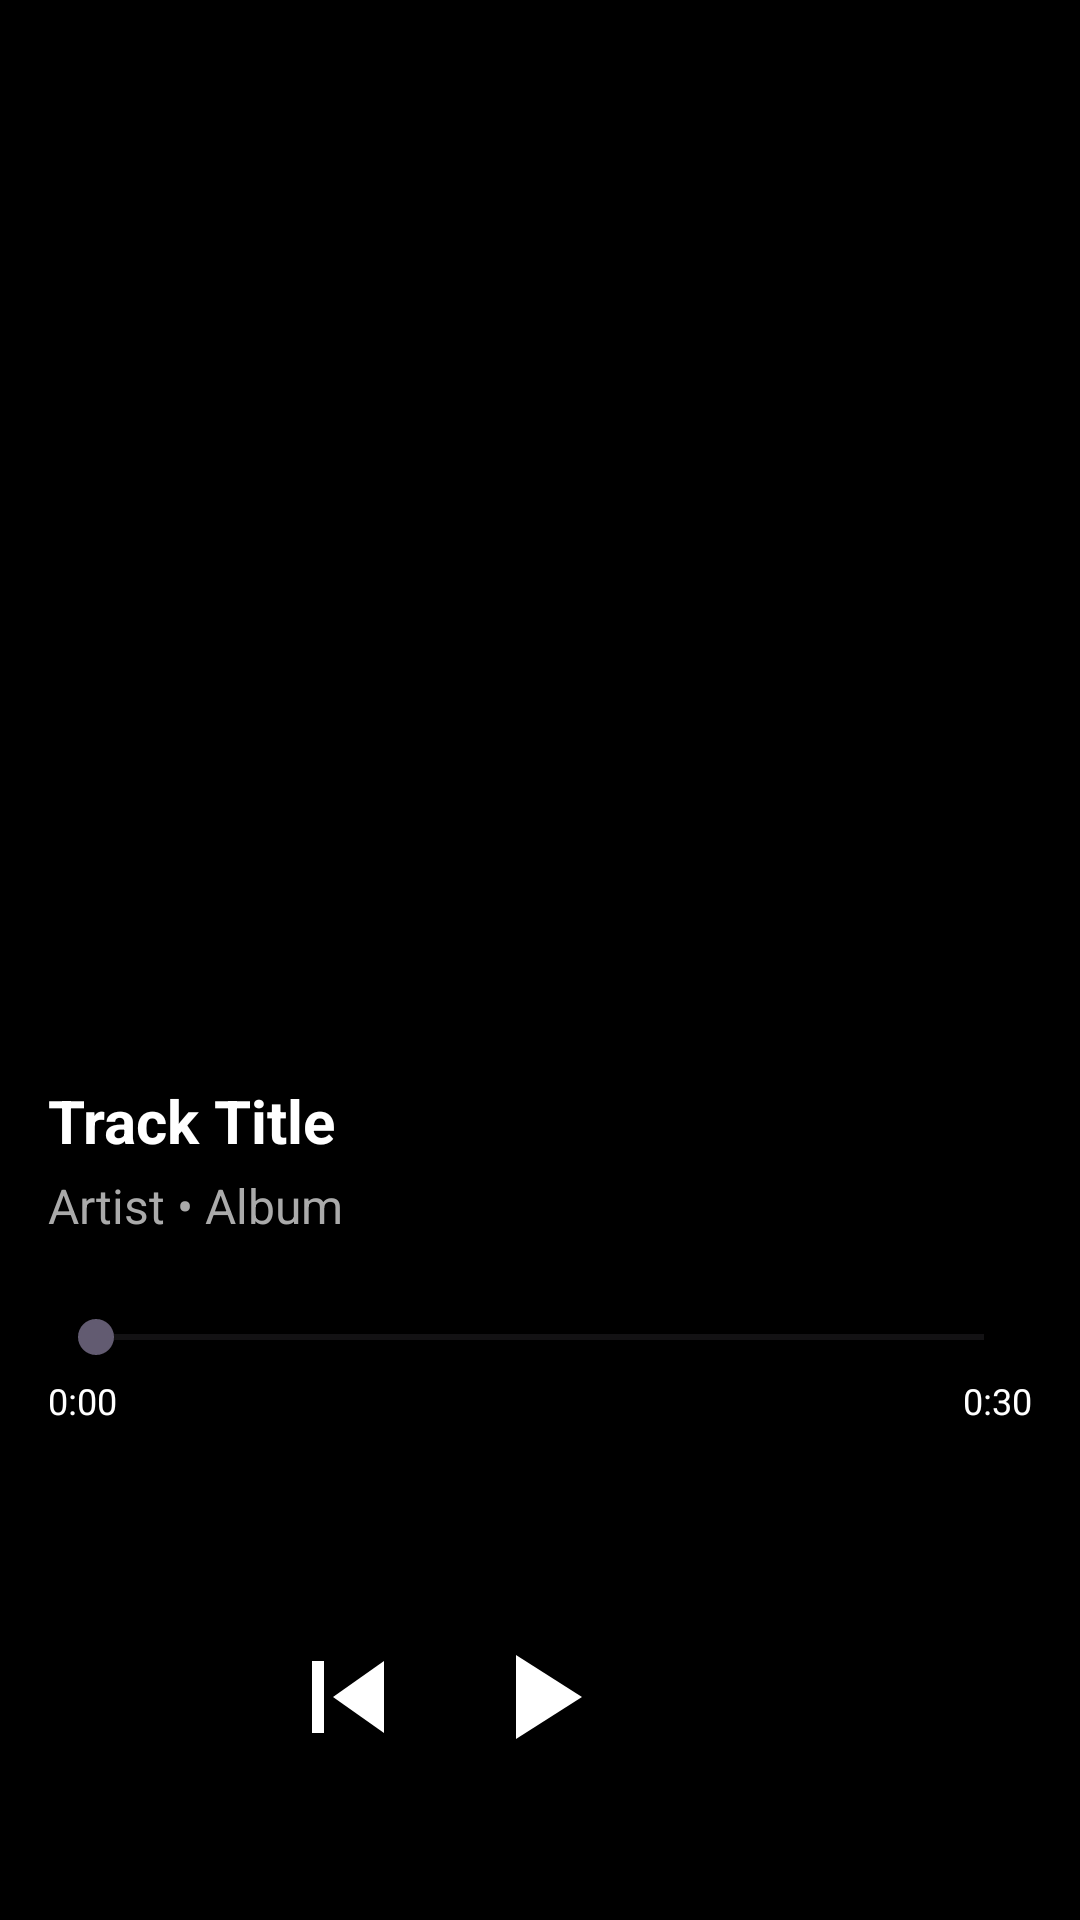

Screen size 1080px×1920px. Icon name, then its center in pixels as (x,y):
Предыдущий трек: (348,1697)
